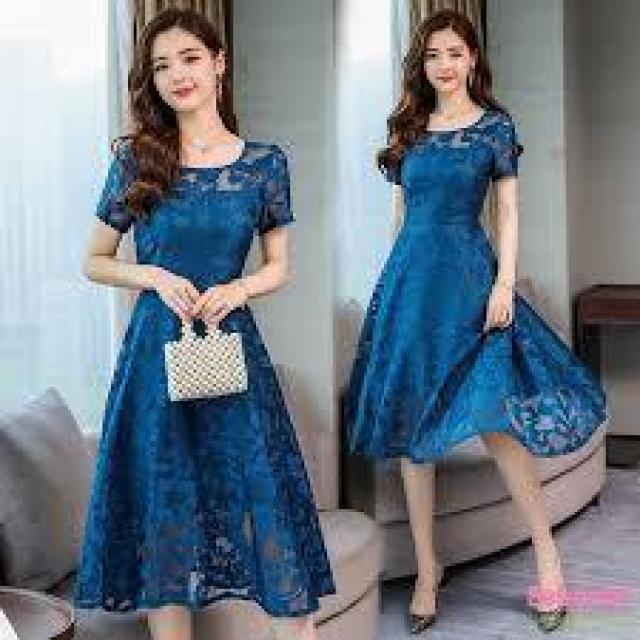dress: (92, 131, 332, 617), (354, 102, 610, 481)
